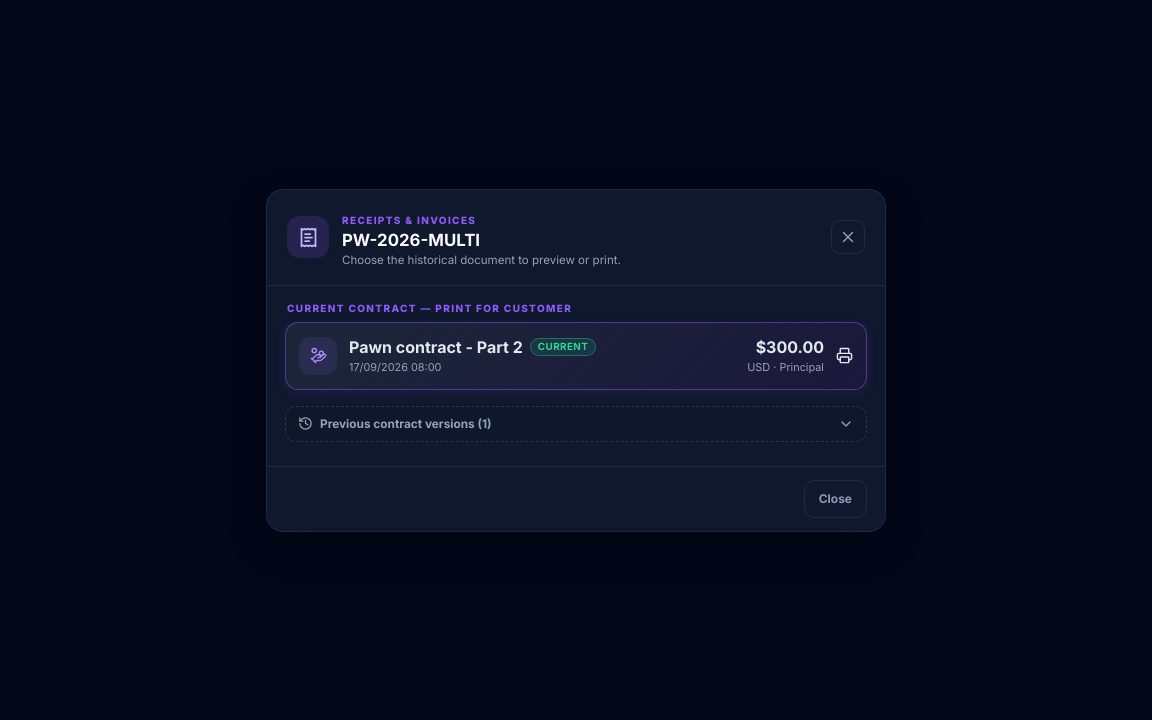
ReceiptCenterBridge component › opens document picker for multi-part pawn contracts and previews selected extension ticket
Expected: the dialog "PW-2026-MULTI" is shown, [266,188,886,532]
Expected: the text "Current contract — Print for customer" is shown, [287,302,572,314]
Expanding previous versions reveals Part 1
Click the button "Previous contract versions (1)". click: (401, 424)
box: [285,406,867,442]
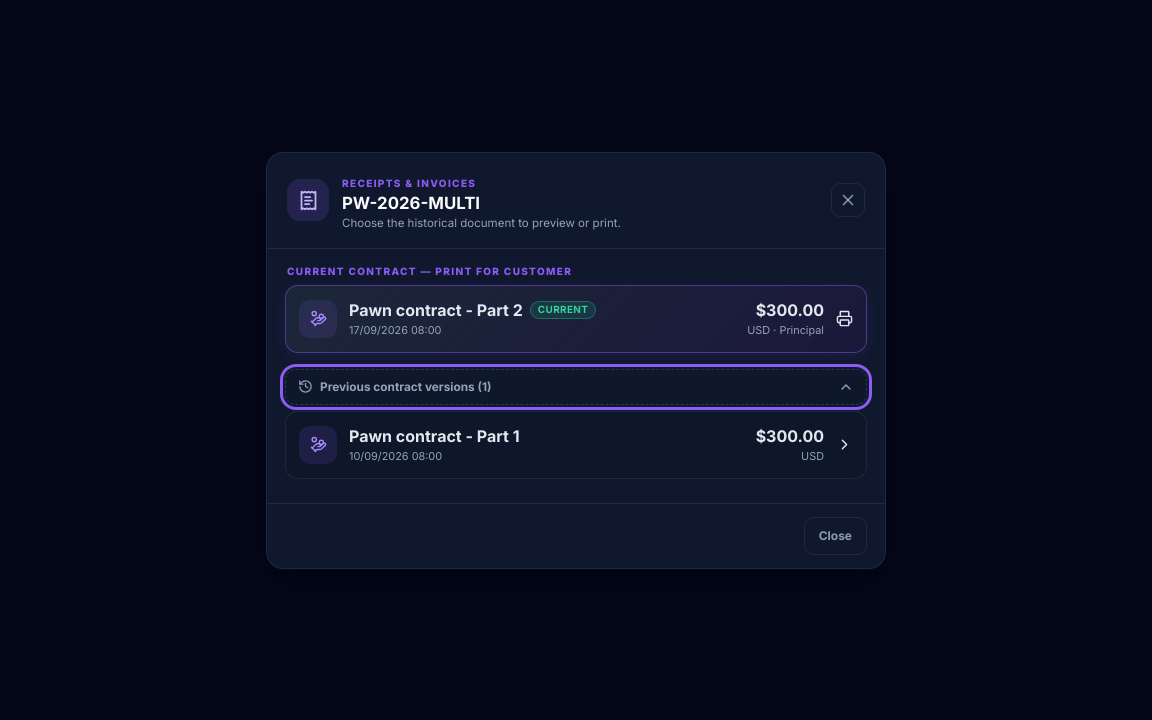
Expected: the text "Pawn contract - Part 1" is shown, [349,426,520,446]
Select Part 2
Click the button "Pawn contract - Part 2". click: (576, 318)
box: [285,284,867,352]
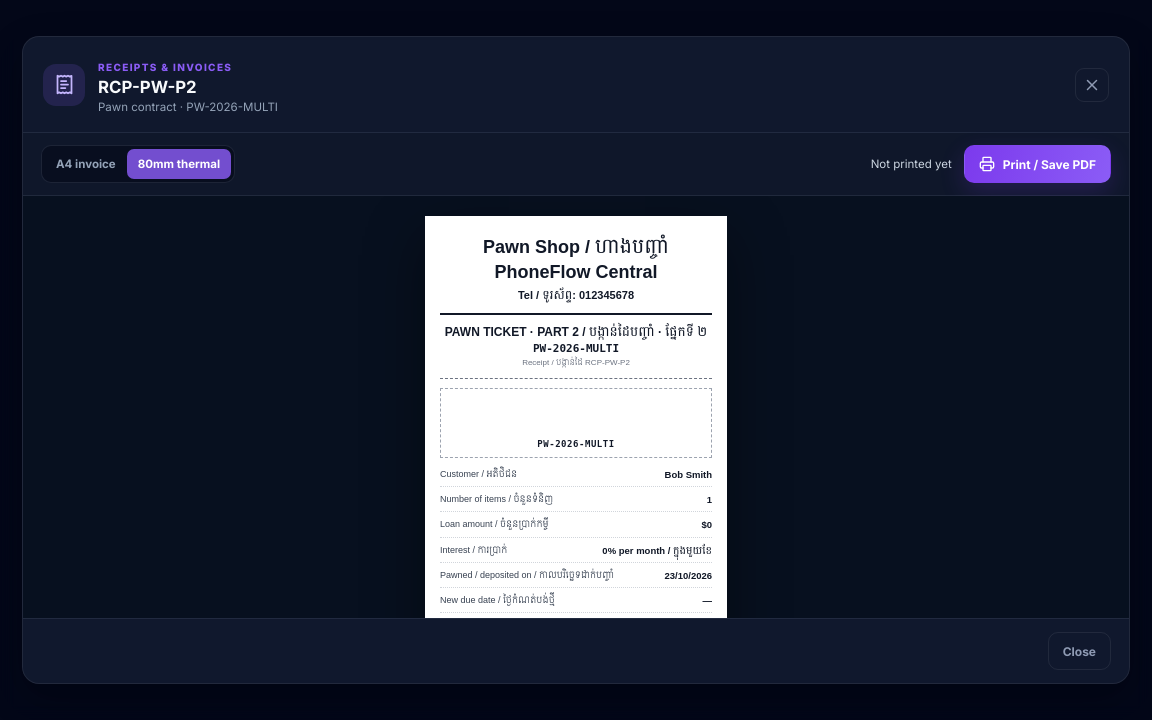
Expected: the dialog "RCP-PW-P2" is shown
Expected: the text "Pawn ticket · Part 2 / បង្កាន់ដៃបញ្ចាំ · ផ្នែកទី ២" is shown, [445,324,707,340]
